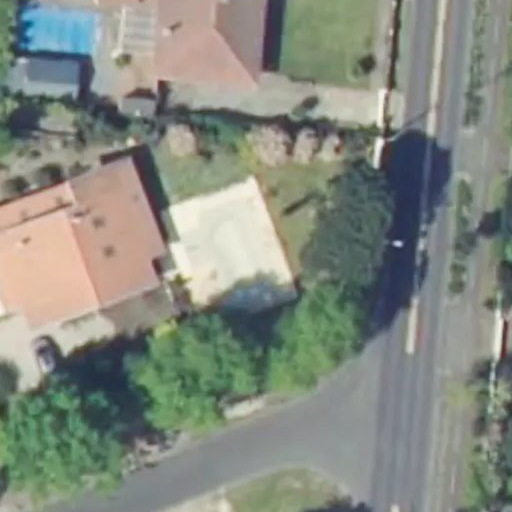pool: (19, 4, 98, 57)
